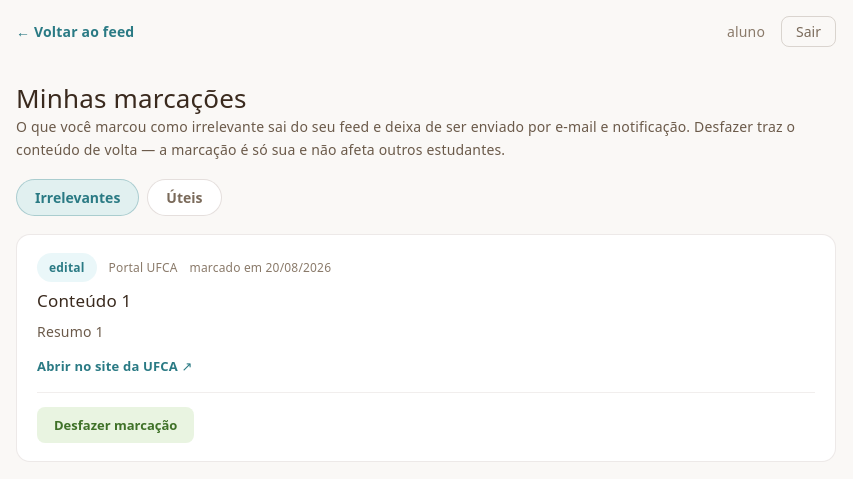
Marcações — desfazer › apaga a marcação e explica que o conteúdo volta ao feed
Expected: the heading "Conteúdo 1" is shown, [37,289,132,312]
Click the button "Desfazer marcação". click: (116, 425)
box: [37,407,194,443]
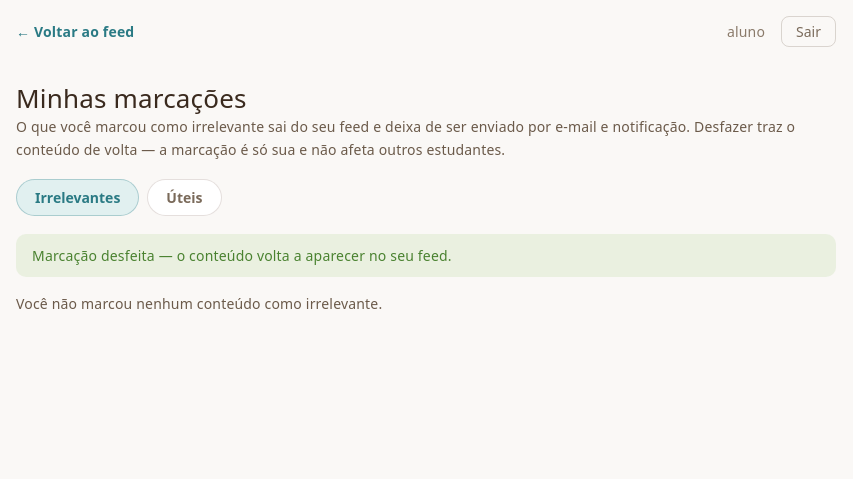
Result: the heading "Conteúdo 1" is gone
Result: the message shows "volta a aparecer no seu feed" at [32,246,452,265]
